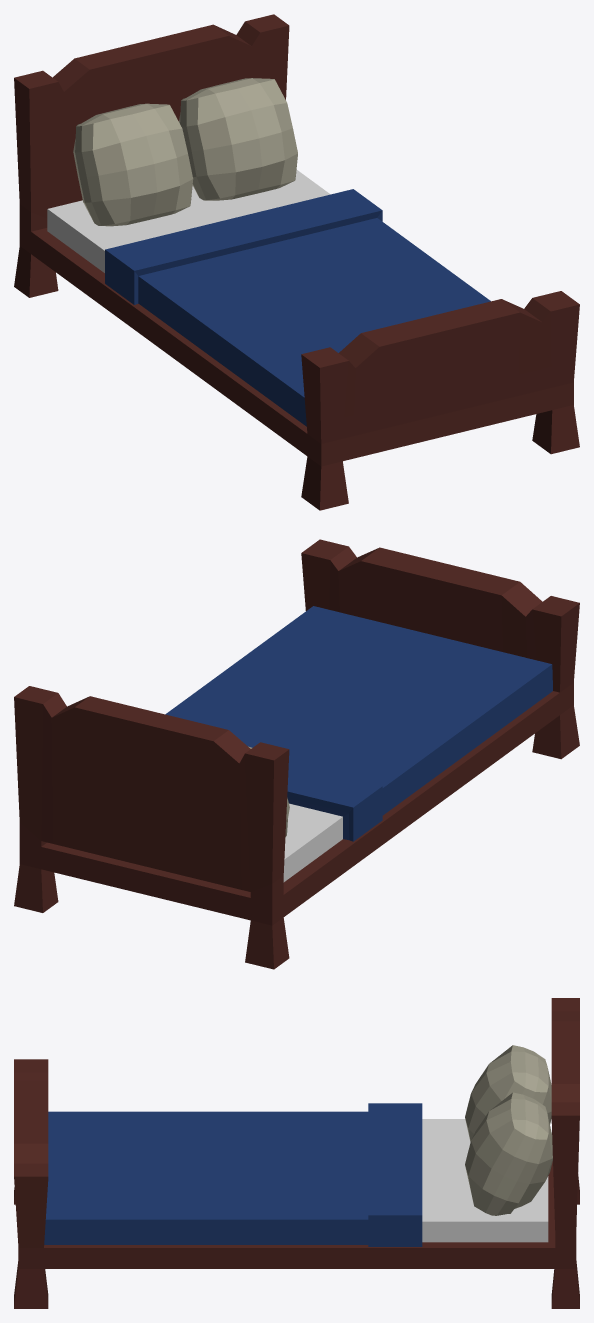
File: Cama.fbx
The picture shows the model from 3 angles, top to bottom: view 1: azimuth 30°, elevation 25°; view 2: azimuth 150°, elevation 25°; view 3: azimuth 270°, elevation 25°; orthographic projection. The views are drawn at different scales.
Parts seen in each view (by area): view 1: Cama, Colchão, Travesseiro, Travesseiro.001; view 2: Cama, Colchão; view 3: Colchão, Cama, Travesseiro.001, Travesseiro.
Part boxes in pixels (box(x1,y1,x2,y2)): Cama: box(14, 14, 579, 510); Colchão: box(47, 170, 490, 426); Travesseiro: box(73, 103, 193, 226); Travesseiro.001: box(179, 78, 297, 200); Cama: box(14, 539, 579, 969); Colchão: box(165, 606, 552, 882); Colchão: box(44, 1103, 548, 1246); Cama: box(14, 998, 579, 1308); Travesseiro.001: box(465, 1092, 552, 1215); Travesseiro: box(465, 1045, 551, 1141).
Bounding box in the file's own units: 270 × 212 × 550.
